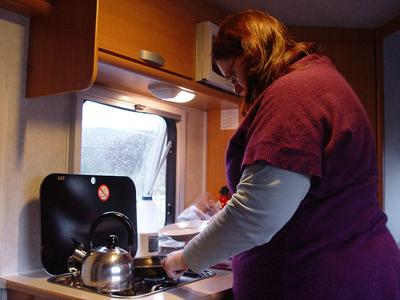person: (162, 10, 400, 298)
